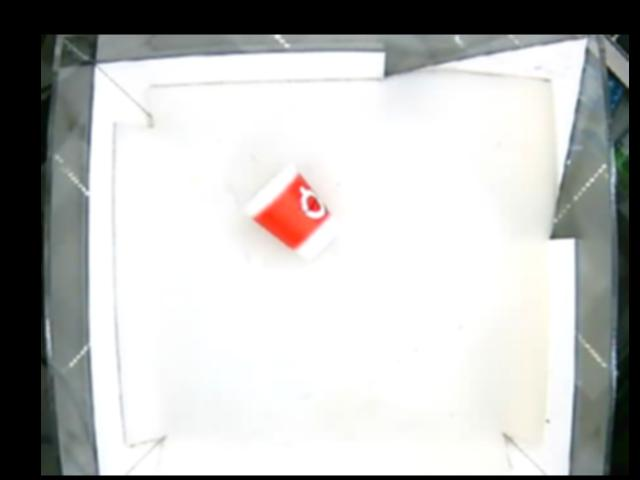Cup: (243, 164, 340, 259)
